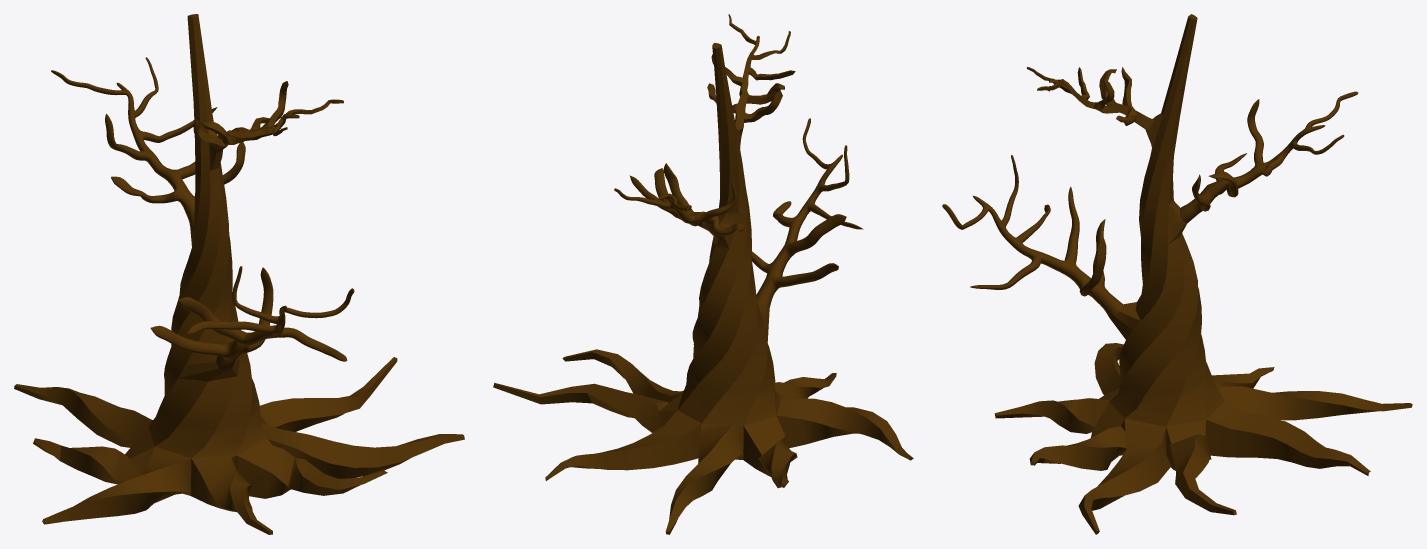
The model's file is Dead_Tree_Export_02.fbx.
3 views of the same model, side by side, from view 1: azimuth 30°, elevation 25°; view 2: azimuth 150°, elevation 25°; view 3: azimuth 270°, elevation 25° (orthographic). The views are drawn at different scales.
Visible parts, largest first — view 1: Dead_Tree_Branch_01:group1_Dead_Tree_Branch_01:pasted__pCube; view 2: Dead_Tree_Branch_01:group1_Dead_Tree_Branch_01:pasted__pCube; view 3: Dead_Tree_Branch_01:group1_Dead_Tree_Branch_01:pasted__pCube.
Boxes of the visible parts, x1,y1,x2,y2 form: Dead_Tree_Branch_01:group1_Dead_Tree_Branch_01:pasted__pCube: (14, 14, 464, 534); Dead_Tree_Branch_01:group1_Dead_Tree_Branch_01:pasted__pCube: (493, 14, 913, 534); Dead_Tree_Branch_01:group1_Dead_Tree_Branch_01:pasted__pCube: (942, 14, 1412, 534).
Size of the model in its own units: 18.04 by 19.36 by 18.98.
